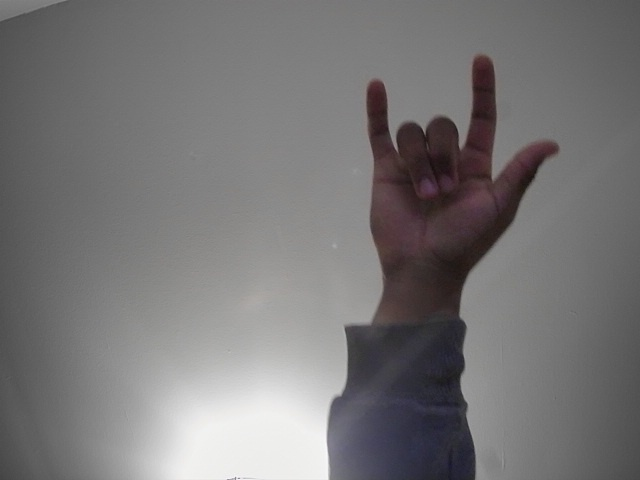ILoveYou: (342, 40, 569, 306)
